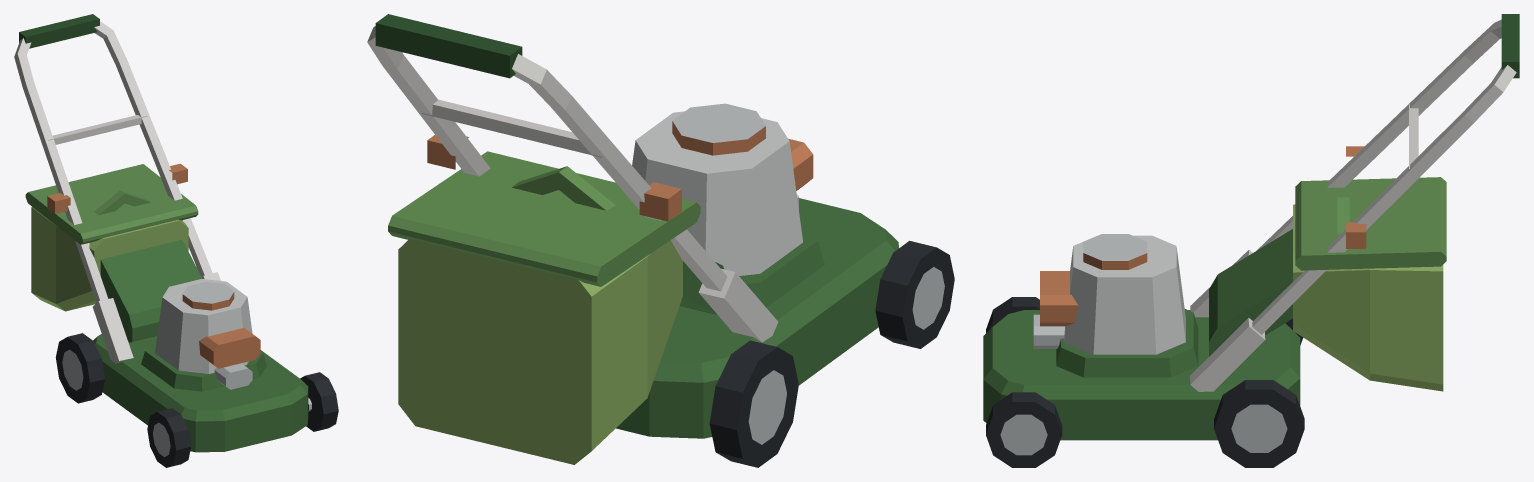
Rendered from push-lawn-mower-3fea08.glb.
3 renders of one model, left to right at view 1: azimuth 30°, elevation 25°; view 2: azimuth 150°, elevation 25°; view 3: azimuth 270°, elevation 25°, orthographic. The views are drawn at different scales.
Visible parts, largest first — view 1: mower-body, catcher-mesh, wheel-rr-mesh, wheel-fr-mesh, wheel-fl-mesh; view 2: catcher-mesh, mower-body, wheel-rr-mesh, wheel-fr-mesh; view 3: mower-body, catcher-mesh, wheel-rl-mesh, wheel-fl-mesh, wheel-fr-mesh.
Boxes of the visible parts, left/top/right/bottom form: mower-body: left=14, top=14, right=311, bottom=452; catcher-mesh: left=25, top=164, right=198, bottom=311; wheel-rr-mesh: left=55, top=333, right=104, bottom=403; wheel-fr-mesh: left=147, top=408, right=191, bottom=467; wheel-fl-mesh: left=300, top=372, right=338, bottom=431; catcher-mesh: left=388, top=151, right=700, bottom=464; mower-body: left=367, top=14, right=898, bottom=438; wheel-rr-mesh: left=709, top=340, right=798, bottom=467; wheel-fr-mesh: left=875, top=240, right=954, bottom=348; mower-body: left=983, top=14, right=1519, bottom=440; catcher-mesh: left=1293, top=177, right=1446, bottom=391; wheel-rl-mesh: left=1214, top=380, right=1304, bottom=467; wheel-fl-mesh: left=986, top=392, right=1062, bottom=467; wheel-fr-mesh: left=986, top=297, right=1039, bottom=332.
Bounding box in the file's own units: 0.518 × 0.867 × 1.12.
